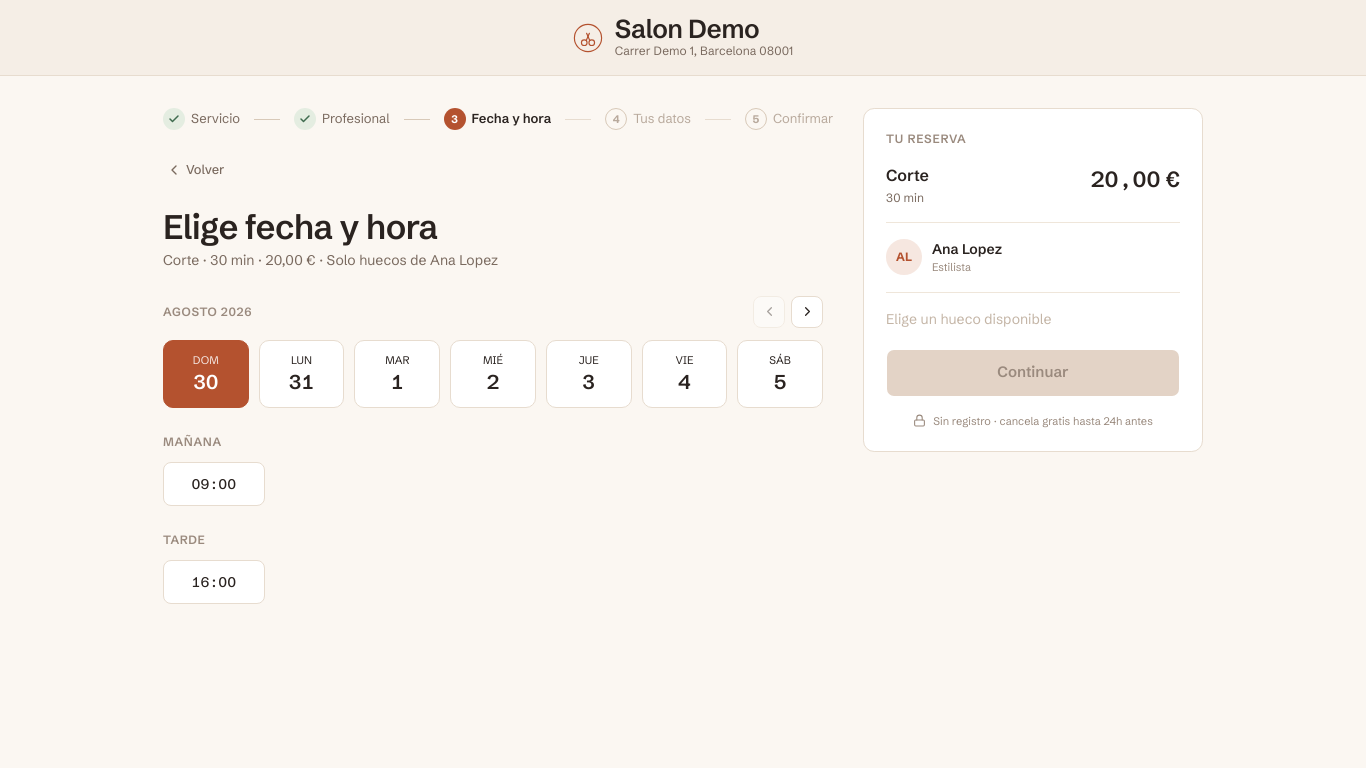
Test: PublicDateTimeStep › escritorio: el navegador de semana pagina de 7 en 7 y la primera pagina no retrocede
Expected: the button "09:00" is shown, [163, 462, 265, 506]
Expected: the button named "Semana anterior" is disabled, [753, 296, 785, 328]
Click the button named "Semana siguiente" at (807, 312), box [791, 296, 823, 328]
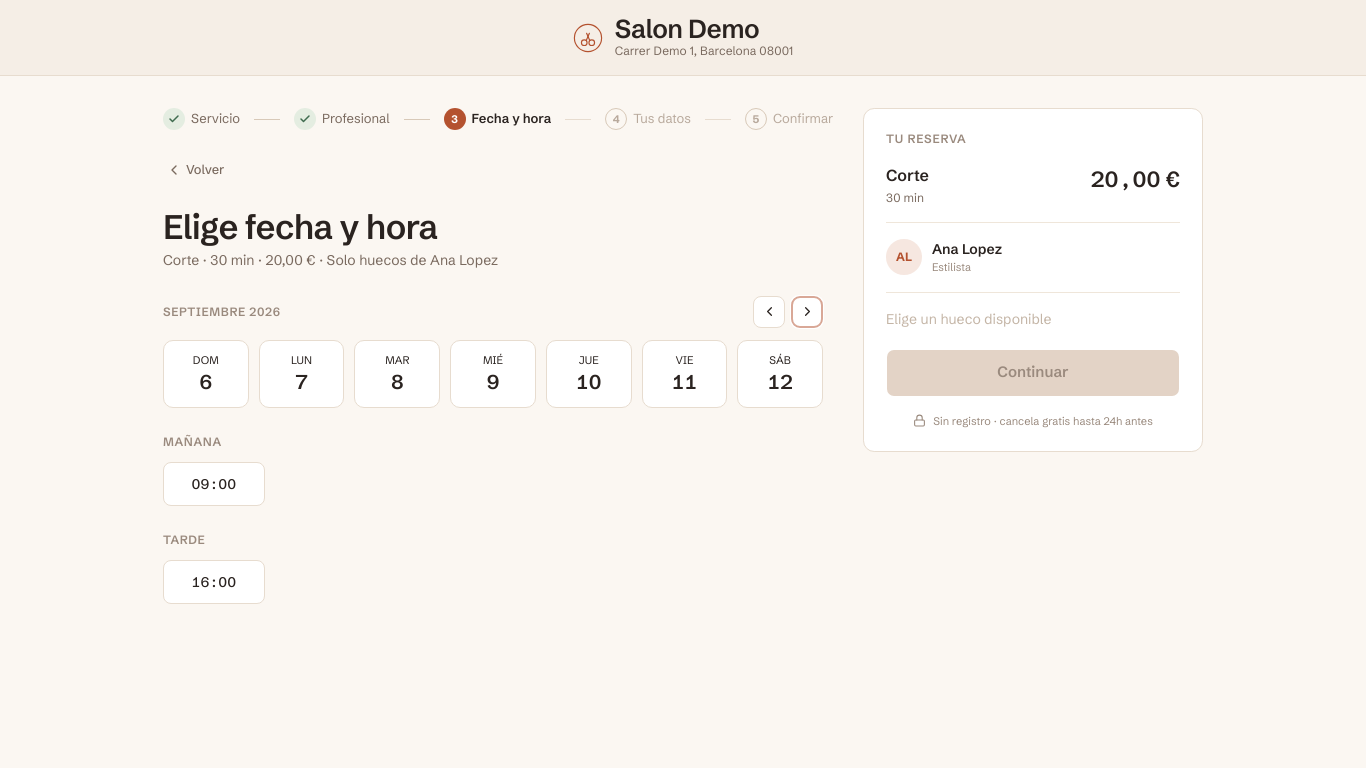
Result: the button with test id "desktop-day-7" is shown at [163, 340, 249, 408]
